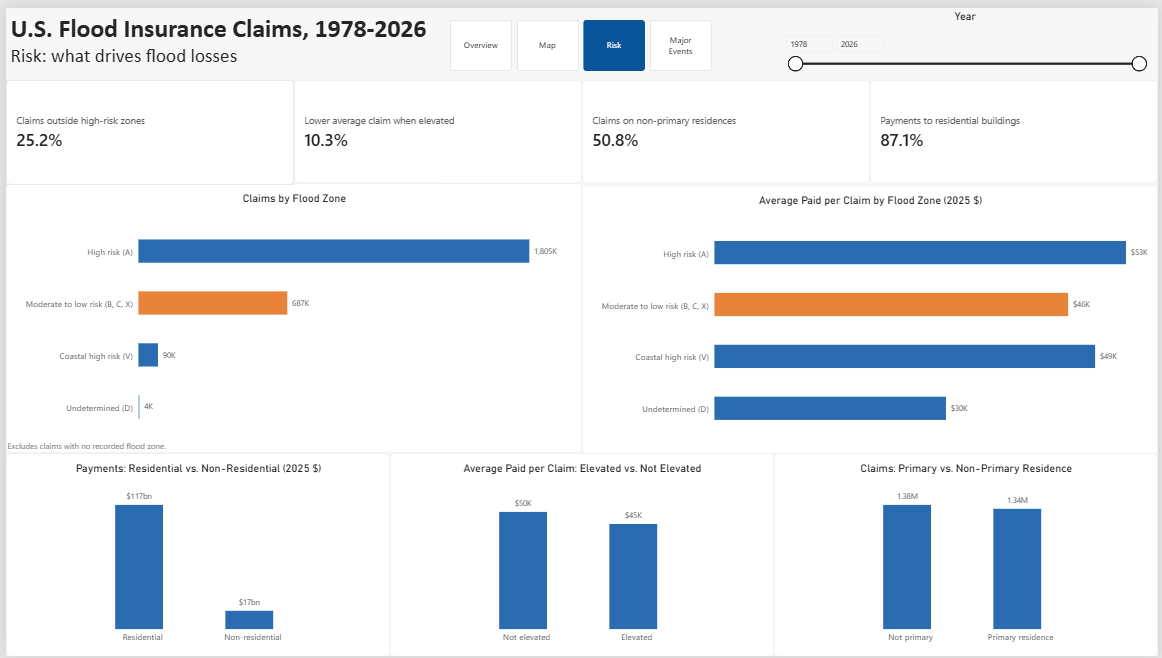

The page's visual inventory and layout, read from the dashboard file:
{"tool":"powerbi","page":{"name":"Risk","canvas":[1920,1080],"ordinal":2},"visuals":[{"type":"textbox","box":[7.5,7.5,712.5,130],"z":0},{"type":"slicer","title":"Year","fields":{"Values":["Date.Year"]},"box":[1292.5,2.5,612.5,122.5],"z":1000},{"type":"clusteredBarChart","title":"Claims by Flood Zone","fields":{"Category":["v_claims.flood_zone_group"],"Y":["v_claims.Total Claims"]},"box":[0,292.5,960,448],"z":2000},{"type":"clusteredBarChart","title":"Average Paid per Claim by Flood Zone (2025 $)","fields":{"Category":["v_claims.flood_zone_group"],"Y":["v_claims.Avg Paid per Claim (2025 $)"]},"box":[960,294,960,448],"z":3000},{"type":"clusteredColumnChart","title":"Average Paid per Claim: Elevated vs. Not Elevated","fields":{"Category":["v_claims.elevated_group"],"Y":["v_claims.Avg Paid per Claim (2025 $)"]},"box":[640,742,640,338],"z":4000},{"type":"clusteredColumnChart","title":"Claims: Primary vs. Non-Primary Residence","fields":{"Category":["v_claims.residence_group"],"Y":["v_claims.Total Claims"]},"box":[1280,742,640,338],"z":5000},{"type":"cardVisual","fields":{"Data":["v_claims.Share Outside High-Risk Zones"]},"box":[0,120,480,174],"z":6000},{"type":"cardVisual","fields":{"Data":["v_claims.Elevated Claim Discount"]},"box":[480,120,480,172],"z":7000},{"type":"cardVisual","fields":{"Data":["v_claims.Share Not Primary Residence"]},"box":[960,120,480,172],"z":8000},{"type":"cardVisual","fields":{"Data":["v_claims.Residential Share of Paid"]},"box":[1440,120,480,172],"z":9000},{"type":"clusteredColumnChart","title":"Payments: Residential vs. Non-Residential (2025 $)","fields":{"Category":["v_claims.occupancy_group"],"Y":["v_claims.Total Paid (2025 $)"]},"box":[0,742.5,640,338],"z":10000},{"type":"textbox","box":[2.5,720,320,25],"z":11000},{"type":"pageNavigator","box":[740,20,437.5,85],"z":12000}]}

Visuals, with their boxes in screenshot pixels (x1, y1, x2, y2), scaled from the page's 1920x1080 canvas onto the 1162x658 screenshot:
textbox: [5, 5, 436, 84]
"Year" slicer: [782, 2, 1153, 76]
"Claims by Flood Zone" clusteredBarChart: [0, 178, 581, 451]
"Average Paid per Claim by Flood Zone (2025 $)" clusteredBarChart: [581, 179, 1161, 452]
"Average Paid per Claim: Elevated vs. Not Elevated" clusteredColumnChart: [387, 452, 775, 657]
"Claims: Primary vs. Non-Primary Residence" clusteredColumnChart: [775, 452, 1161, 657]
cardVisual - v_claims.Share Outside High-Risk Zones: [0, 73, 290, 179]
cardVisual - v_claims.Elevated Claim Discount: [290, 73, 581, 178]
cardVisual - v_claims.Share Not Primary Residence: [581, 73, 872, 178]
cardVisual - v_claims.Residential Share of Paid: [872, 73, 1161, 178]
"Payments: Residential vs. Non-Residential (2025 $)" clusteredColumnChart: [0, 452, 387, 657]
textbox: [2, 439, 195, 454]
pageNavigator: [448, 12, 713, 64]
